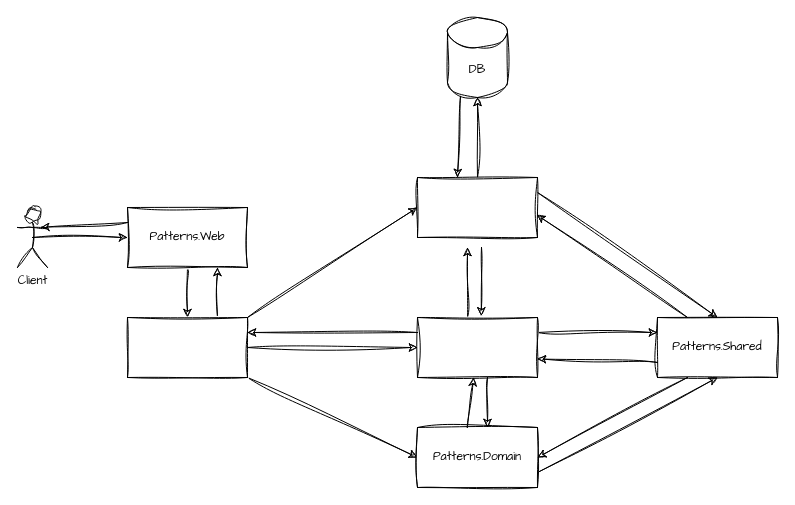
This 795x505 diagram has some shape labels left out. The shapes that lost their labels are listed below. From the top down, each one's centre as x and y in pixels, then its label:
point (477, 207): Patterns.Infra.Data
point (187, 347): Patterns.Infra.Ioc
point (477, 347): Patterns.Application
